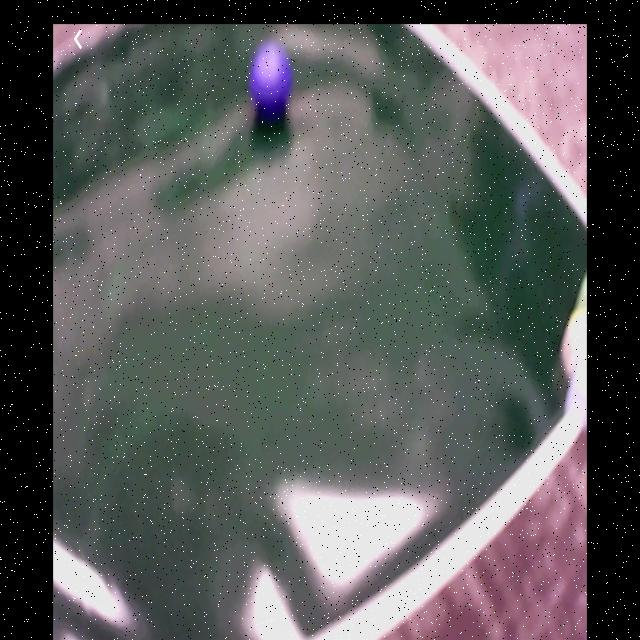ball: (249, 41, 299, 113)
